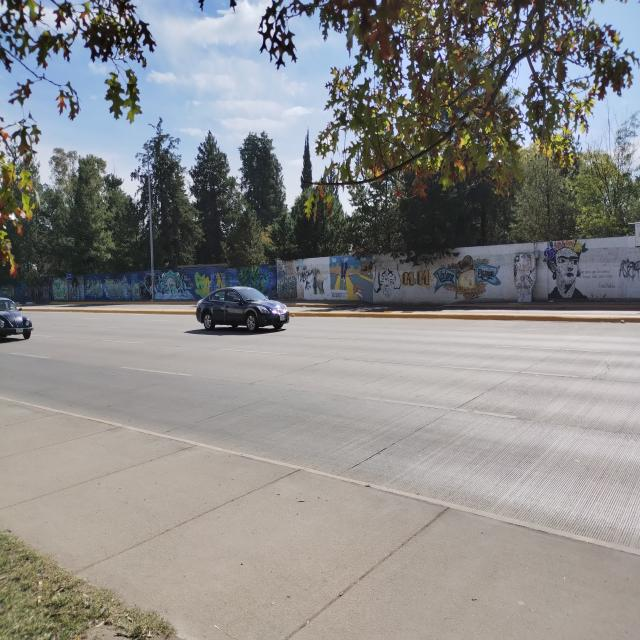Auto: (194, 282, 291, 332), (0, 297, 33, 341)
